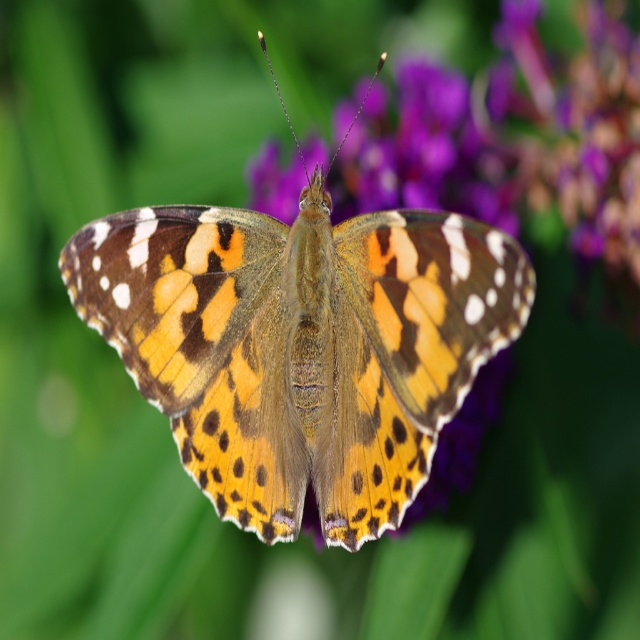Butterfly: (71, 20, 533, 567)
